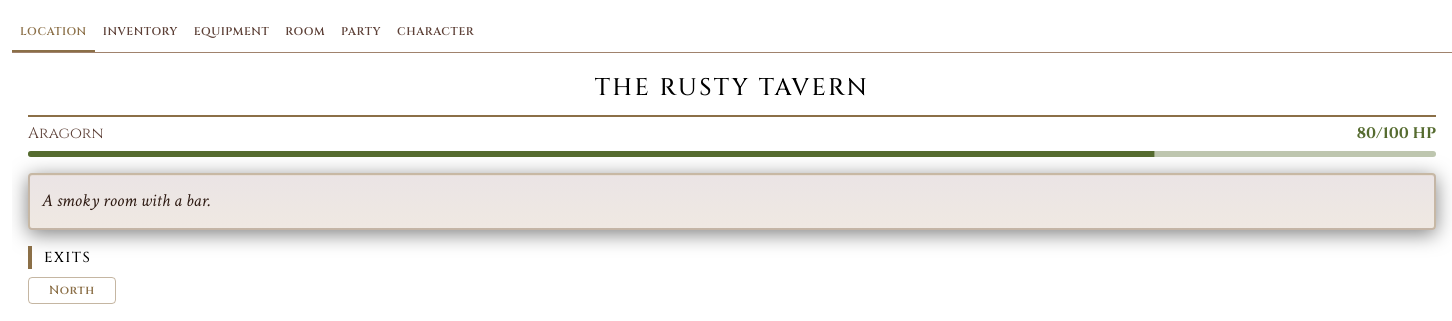
Scenario: GameInfo › shows player inventory on Inventory tab
Click the tab "Inventory" at {"x": 140, "y": 32}, box [95,12,186,52]
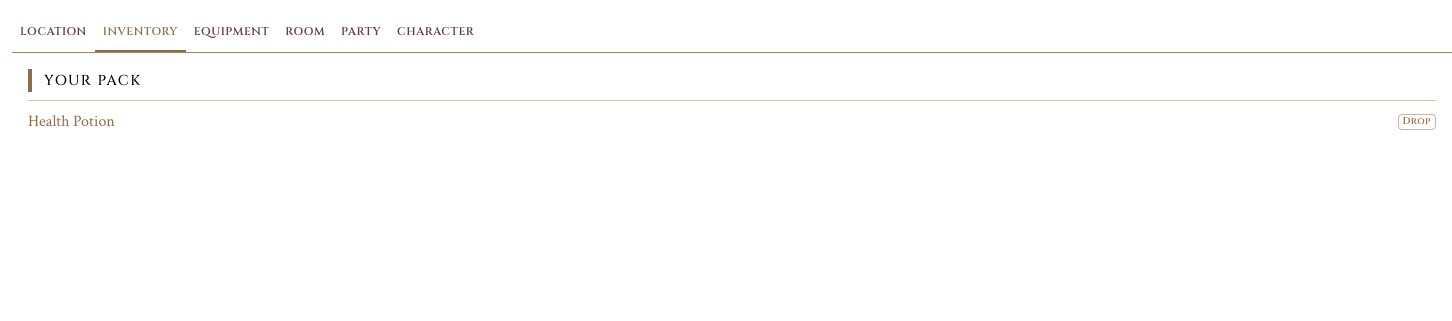
Check: the text "Health Potion" is shown, box [28,111,115,132]
